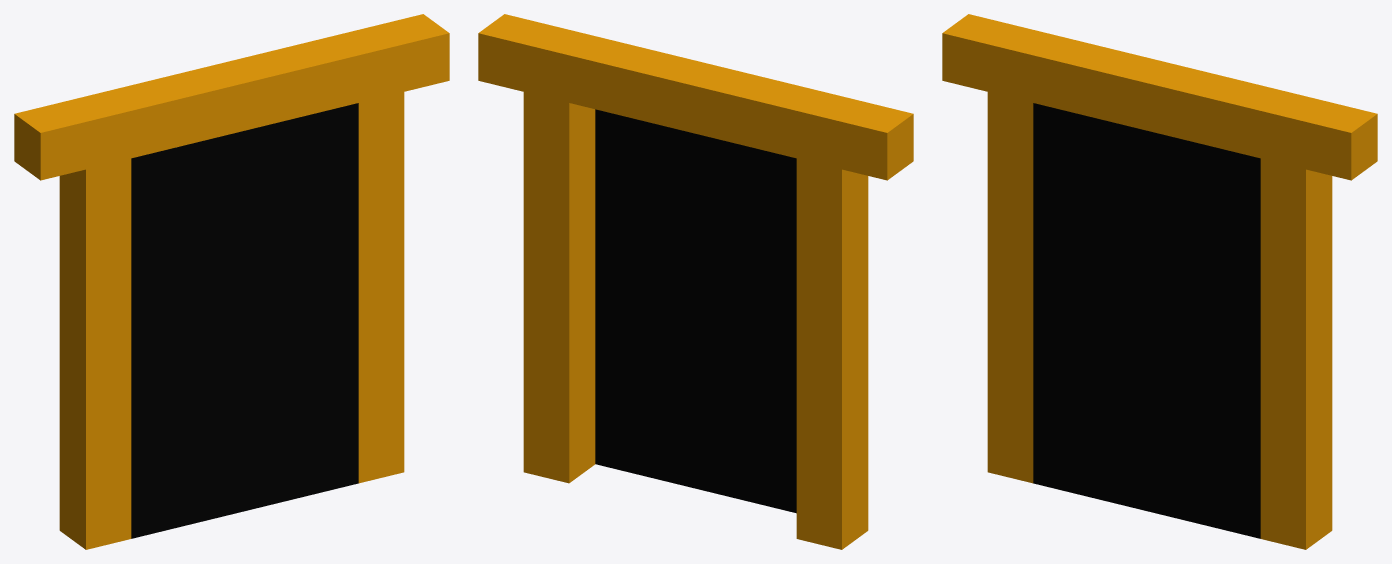
The model's file is Door with UV.fbx.
The picture shows the model from 3 angles, left to right: view 1: azimuth 30°, elevation 25°; view 2: azimuth 150°, elevation 25°; view 3: azimuth 330°, elevation 25°; orthographic projection.
Visible parts, largest first — view 1: Plane001, Box003; view 2: Box003, Plane001; view 3: Plane001, Box003.
Boxes of the visible parts, x1,y1,x2,y2 form: Plane001: (131,103,358,538); Box003: (14,14,449,549); Box003: (478,14,913,549); Plane001: (595,109,796,513); Plane001: (1033,103,1260,538); Box003: (942,14,1377,549).
Size of the model in its own units: 450 by 450 by 50.
